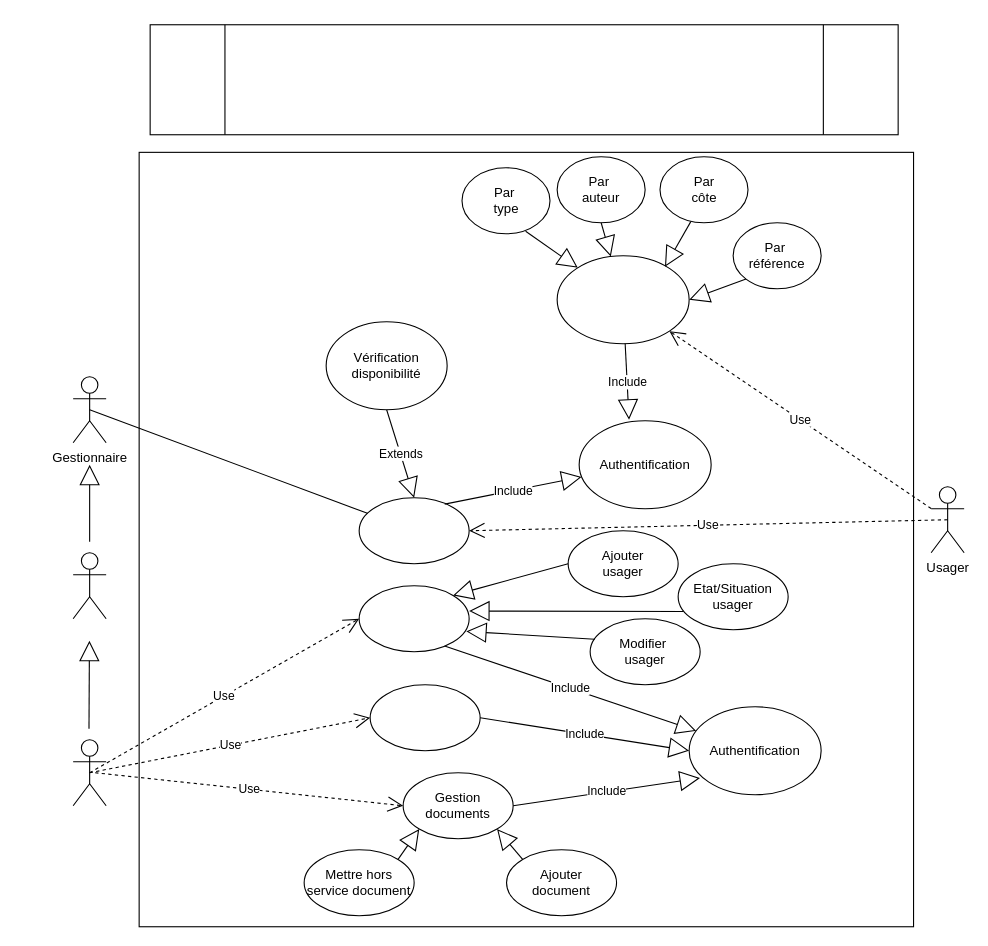
Image size: 988x946. Some labels were removed from this diagram. The centre of each missing label's shape, as x and y in pixels:
"Bibliothécaire/personnel" goes at (x=89, y=772).
"Bénévole" goes at (x=89, y=585).
"Consultation liste documents" goes at (x=622, y=299).
"Gestion des emprunts" goes at (x=413, y=530).
"Gestion relances" goes at (x=424, y=717).
"Gestion usagers" goes at (x=413, y=618).
"Le diagramme des cas d'utilisation Projet de Bibliothèque" goes at (x=523, y=79).
